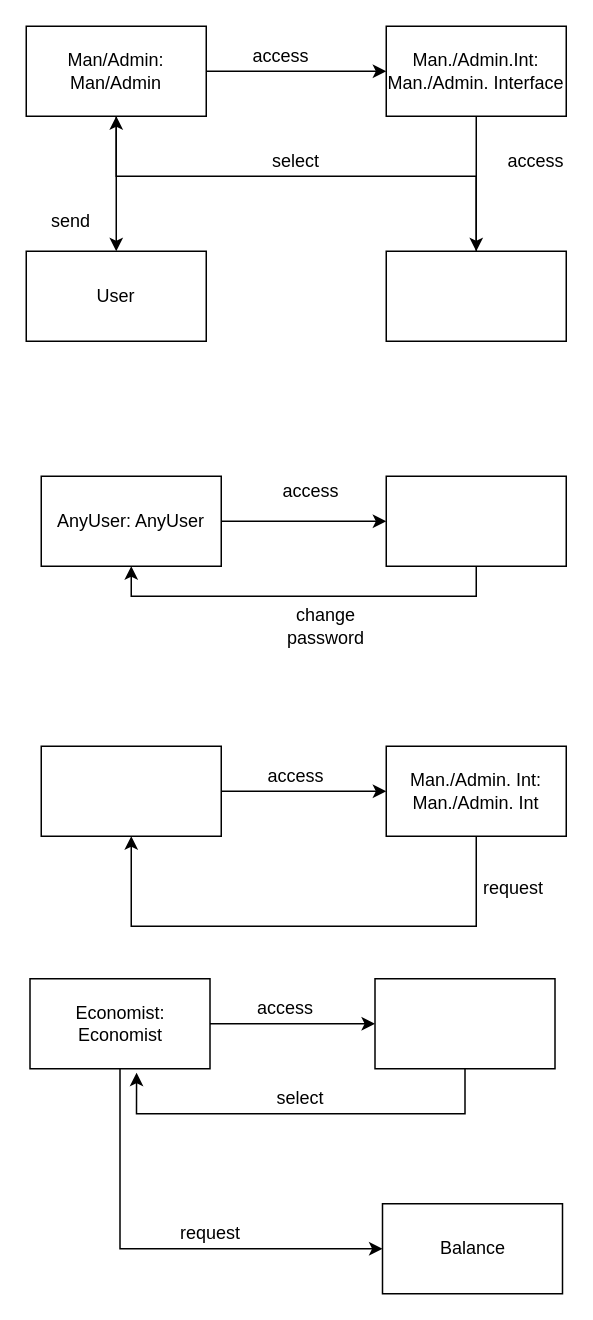
The diagram is 593 pixels wide and 1320 high, and some of its shapes have lost their labels. The box of each missing label's shape, as (x1, y1, x2, y2) in pixels:
AnyUI:AnyUI: (385, 475, 566, 566)
Eco.Interface: Eco.Interface: (374, 977, 555, 1069)
Man./Admin.: Man./Admin.: (40, 745, 221, 836)
Modify Users: Modify USers: (385, 250, 566, 341)
